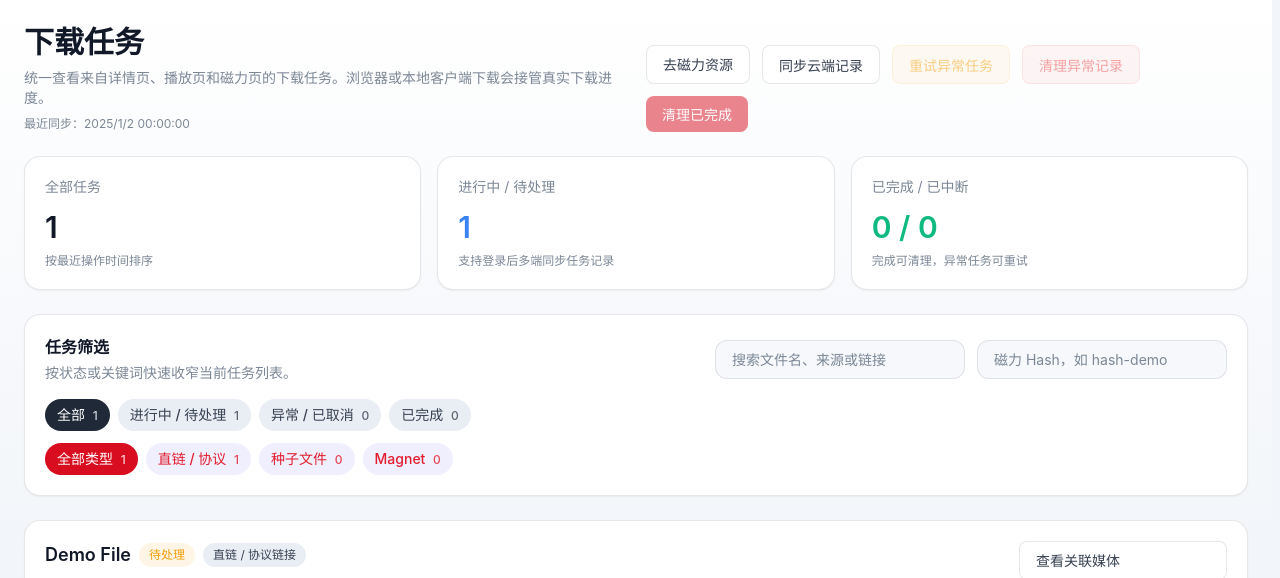
Test case: DownloadsView › shows the generic refresh failure message when no remote error text is available
Click the button "同步云端记录": coordinates (821, 64) [762, 45, 880, 84]
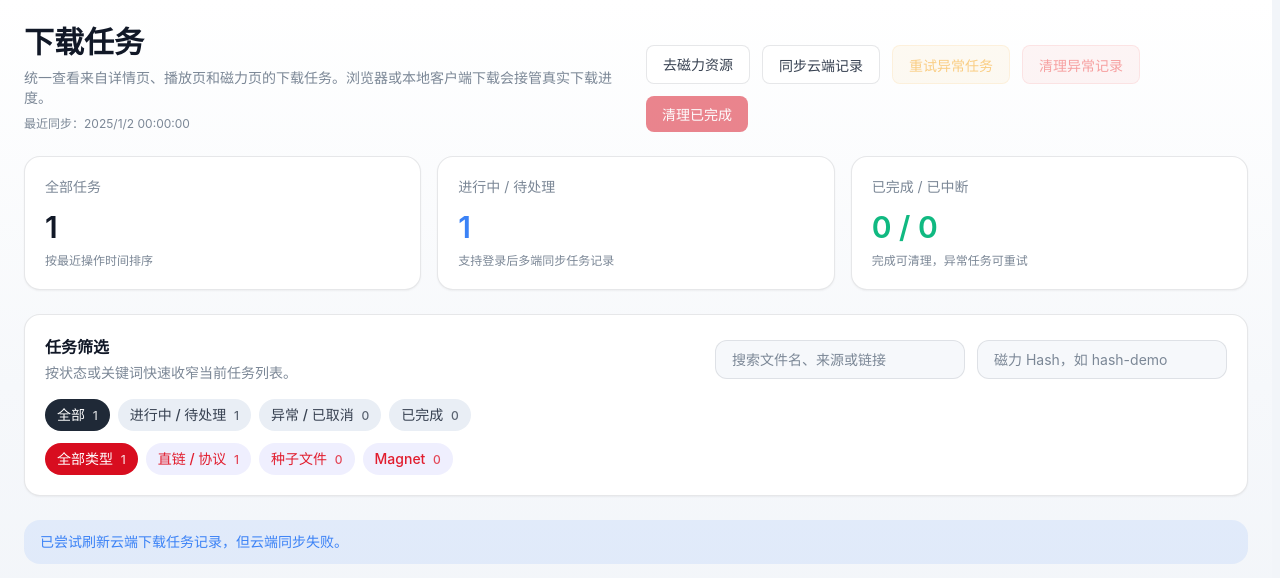
Result: the text "已尝试刷新云端下载任务记录，但云端同步失败。" is shown at [24, 520, 1248, 564]
